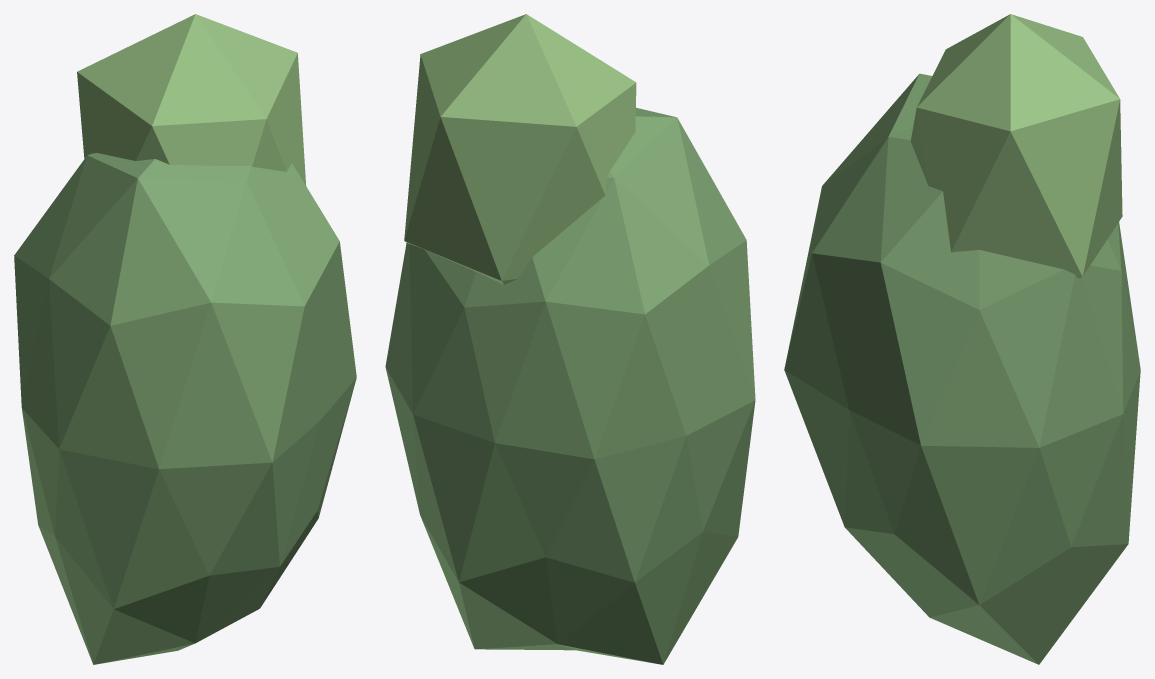
The model's file is bush-tall.glb.
The picture shows the model from 3 angles, left to right: view 1: azimuth 30°, elevation 25°; view 2: azimuth 150°, elevation 25°; view 3: azimuth 270°, elevation 25°; orthographic projection. The views are drawn at different scales.
Parts seen in each view (by area): view 1: bush-tall; view 2: bush-tall; view 3: bush-tall.
Part boxes in pixels (x1,y1,x2,y2): bush-tall: (14,14,356,664); bush-tall: (385,14,755,664); bush-tall: (784,14,1140,664).
Bounding box in the file's own units: 0.9233 × 1.81 × 0.9166.
